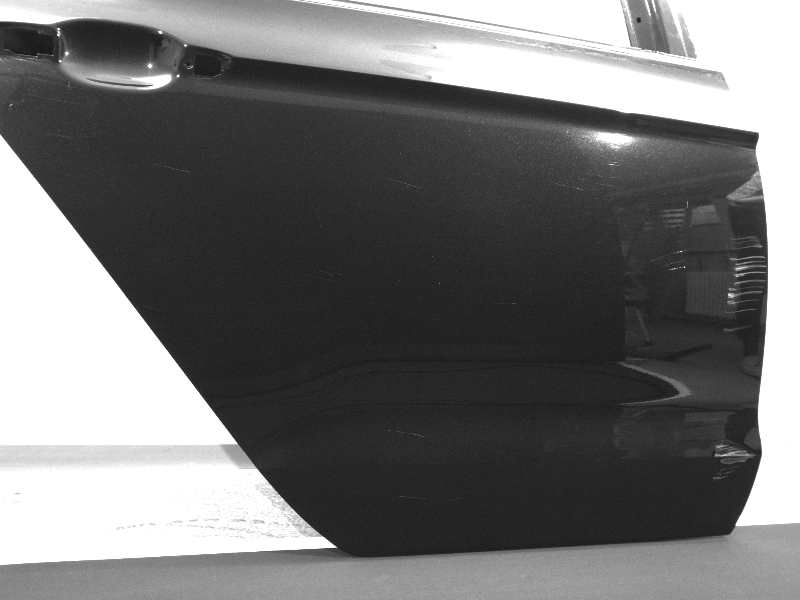scratch: (722, 235, 766, 333), (712, 440, 755, 481), (21, 91, 84, 107), (648, 249, 688, 271), (151, 162, 195, 175), (306, 269, 343, 284), (385, 177, 420, 190), (386, 428, 426, 439), (49, 133, 85, 143), (549, 182, 584, 191), (491, 299, 520, 307), (396, 496, 429, 502), (684, 201, 690, 207)
